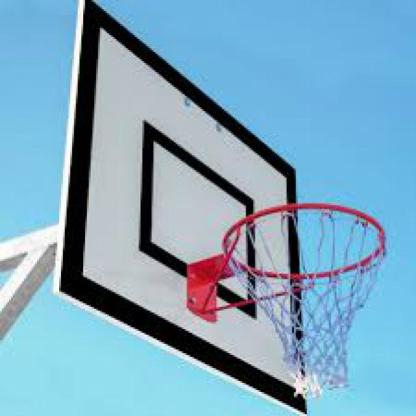rim: (220, 203, 386, 283)
